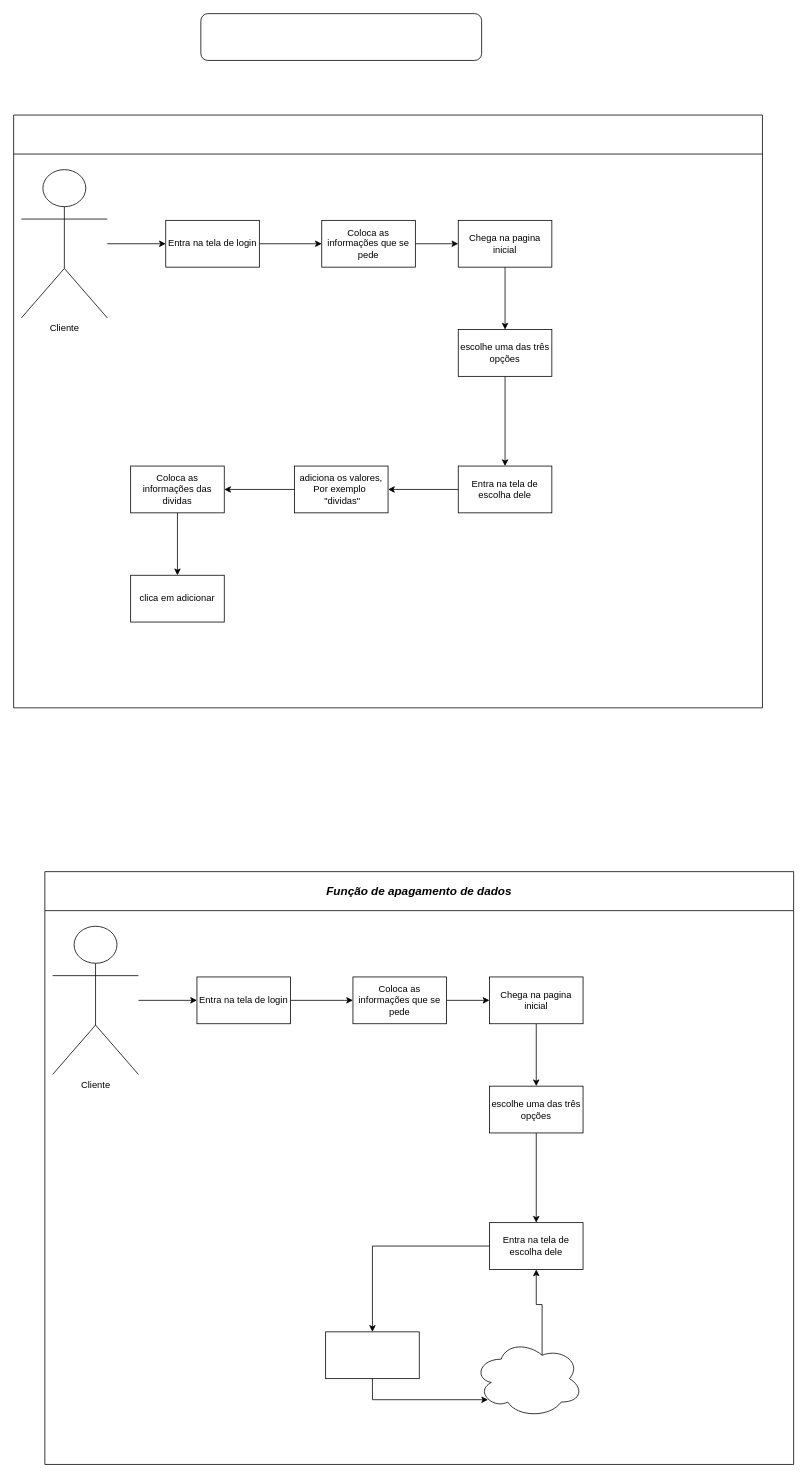
Image size: 807x1478. Some labels were removed from this diagram. The shapes that lost their labels are listed below. From the top down, each one's centre as x and y in pixels, then its label:
At point (341, 36): "CASOS DE USO".
At point (387, 411): "Função simples do app".
At point (372, 1355): "clica em apagar".
At point (528, 1378): "AVISO: Tem certeza? sim / não".
